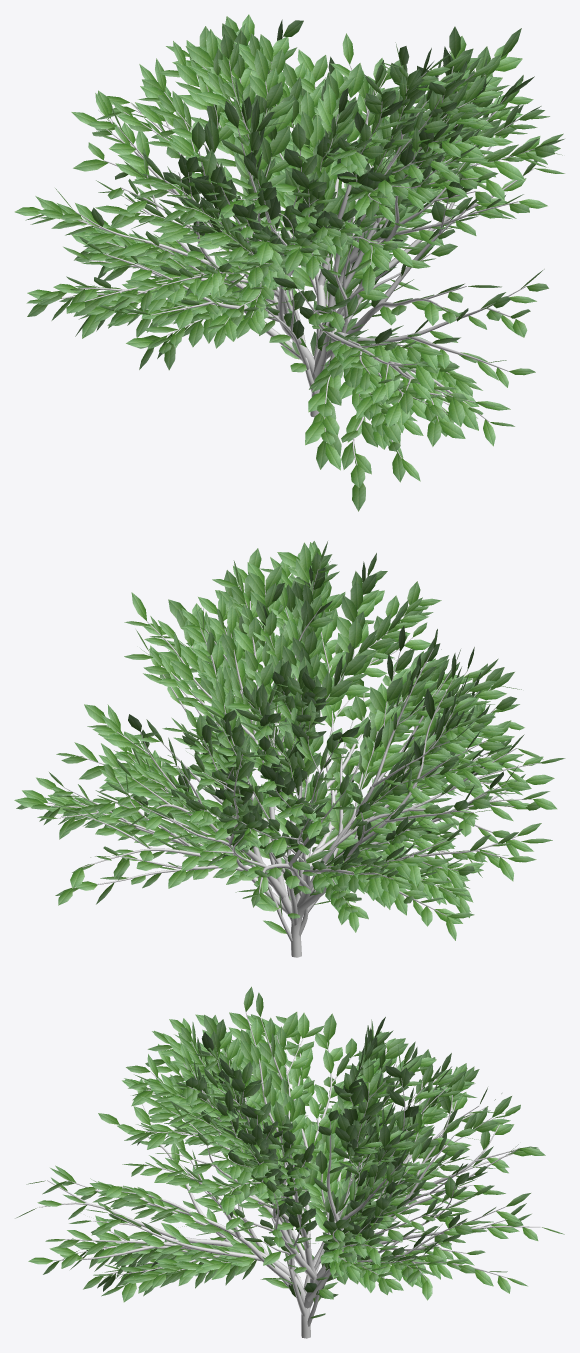
Rendered from Bush1.fbx.
3 views of the same model, one above another, from view 1: azimuth 30°, elevation 25°; view 2: azimuth 150°, elevation 25°; view 3: azimuth 270°, elevation 25° (orthographic). The views are drawn at different scales.
Parts seen in each view (by area): view 1: leaves, tree; view 2: leaves, tree; view 3: leaves, tree.
Boxes of the visible parts, x1,y1,x2,y2 form: leaves: (14,14,564,511); tree: (60,36,534,465); leaves: (14,541,565,940); tree: (47,569,537,957); leaves: (15,986,564,1318); tree: (39,1012,540,1338).
Size of the model in its own units: 211 by 161 by 243.
